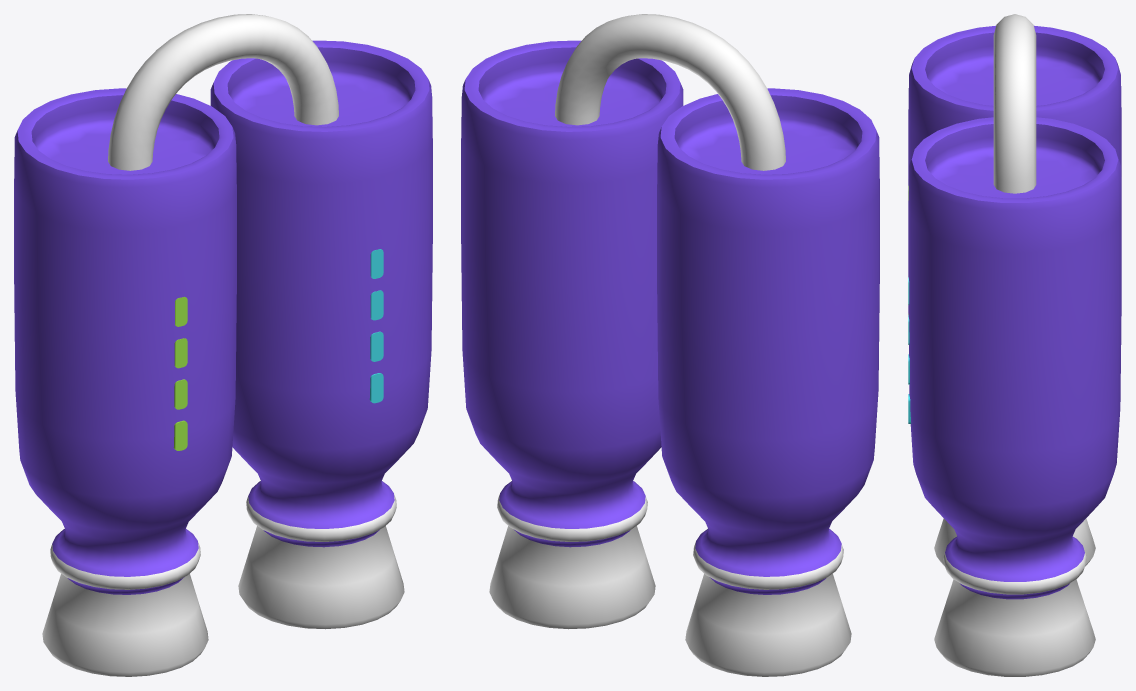
The model's file is JETPACK.fbx.
3 renders of one model, left to right at view 1: azimuth 30°, elevation 25°; view 2: azimuth 150°, elevation 25°; view 3: azimuth 270°, elevation 25°, orthographic. The views are drawn at different scales.
Parts seen in each view (by area): view 1: Boosters, Pipe, Green LEDs.001, Green LEDs; view 2: Boosters, Pipe; view 3: Boosters, Pipe.
Part boxes in pixels (x1,y1,x2,y2): Boosters: (14, 40, 432, 676); Pipe: (108, 14, 338, 170); Green LEDs.001: (369, 249, 383, 403); Green LEDs: (173, 297, 187, 450); Boosters: (461, 40, 879, 676); Pipe: (555, 14, 785, 170); Boosters: (908, 25, 1121, 676); Pipe: (993, 14, 1036, 193).
Bounding box in the file's own units: 83.18 × 123 × 41.49.
